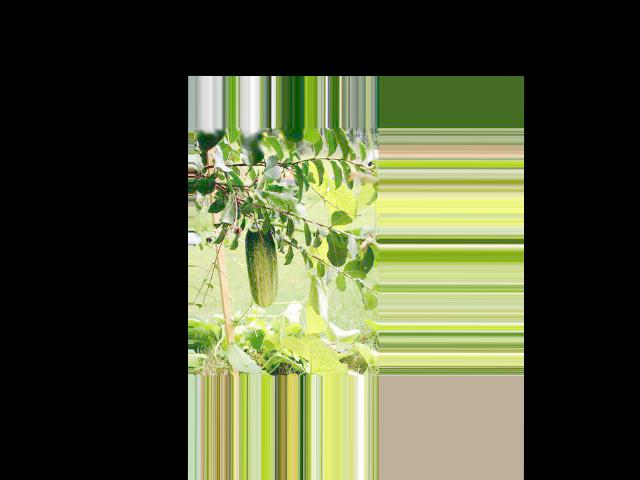cucumber: (244, 219, 277, 307)
